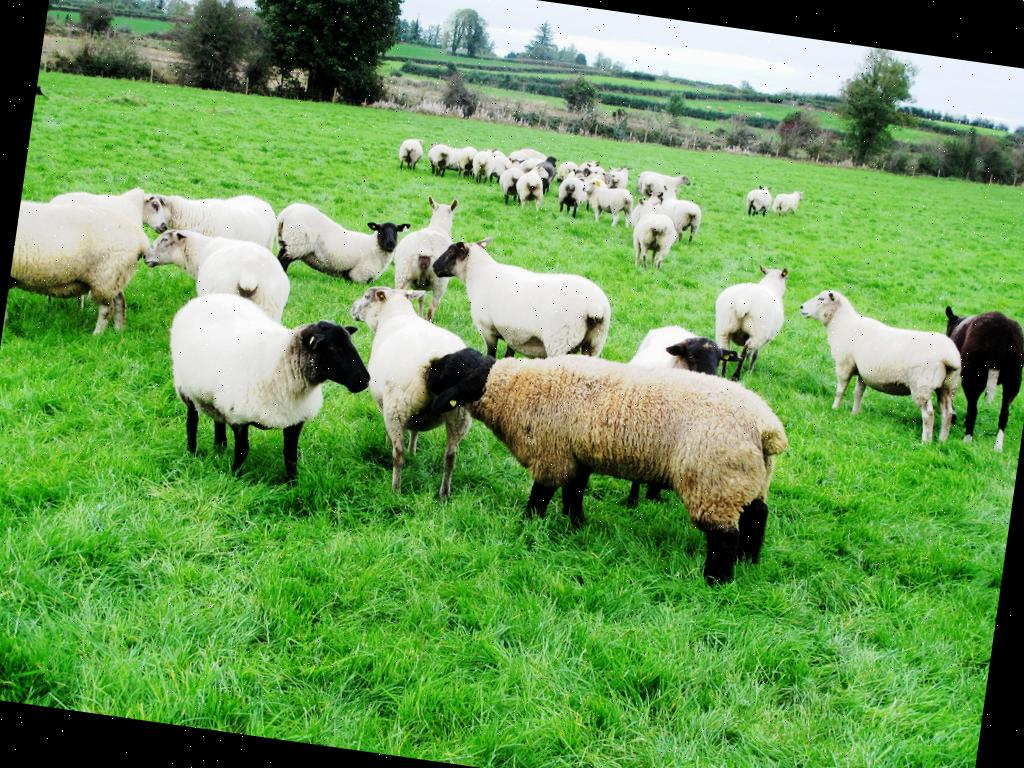Sheep: (402, 329, 802, 602), (155, 289, 384, 502), (324, 276, 496, 496), (782, 277, 972, 453), (420, 227, 622, 386), (2, 196, 162, 350), (127, 220, 302, 359), (923, 290, 1024, 461), (30, 157, 182, 259), (266, 194, 404, 306), (145, 181, 293, 275), (624, 307, 738, 413), (710, 251, 799, 383), (383, 191, 464, 311), (628, 196, 680, 274), (572, 174, 638, 229), (655, 184, 706, 246), (634, 167, 692, 206), (513, 161, 552, 214), (498, 155, 530, 204), (556, 168, 590, 214), (742, 180, 776, 224), (467, 141, 498, 188), (396, 134, 428, 174), (425, 138, 454, 180), (770, 185, 804, 220), (454, 143, 480, 180)
